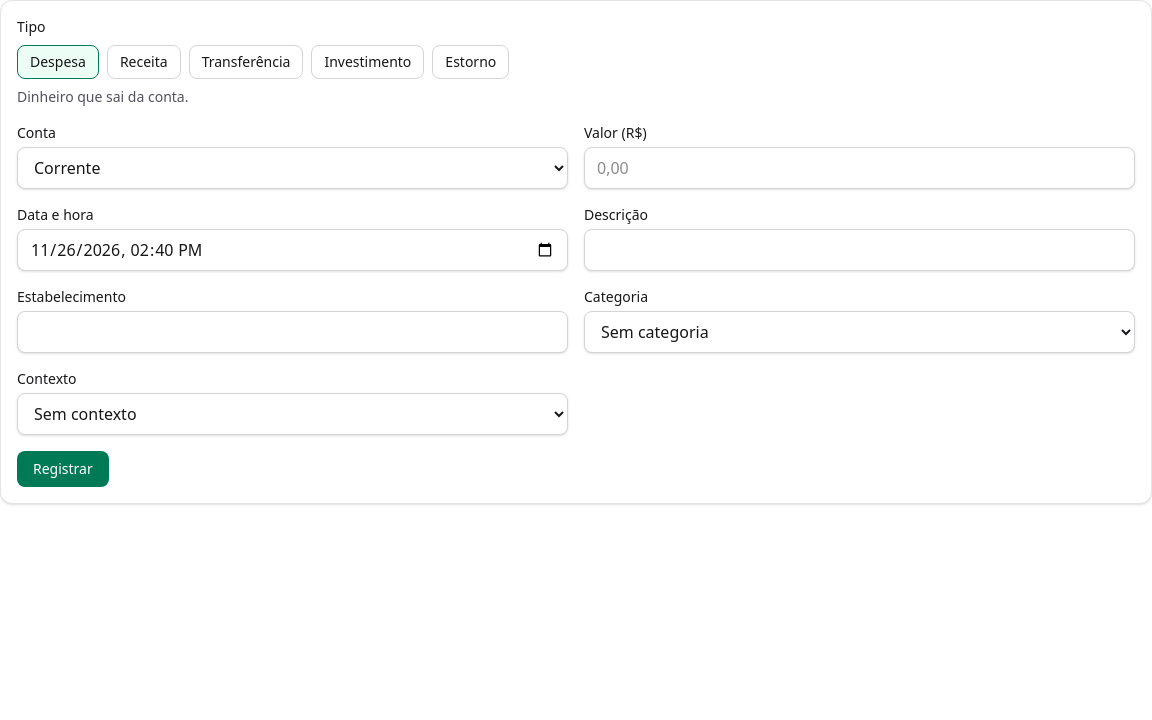
Test: TransactionForm › envia o valor em decimal canônico, a data em ISO e omite os campos vazios
The image size is (1152, 720).
Type "R$ 1.120,50" into the field labelled "Valor (R$)".
click(860, 168); type("R$ 1.120,50")  # box [584,147,1135,189]
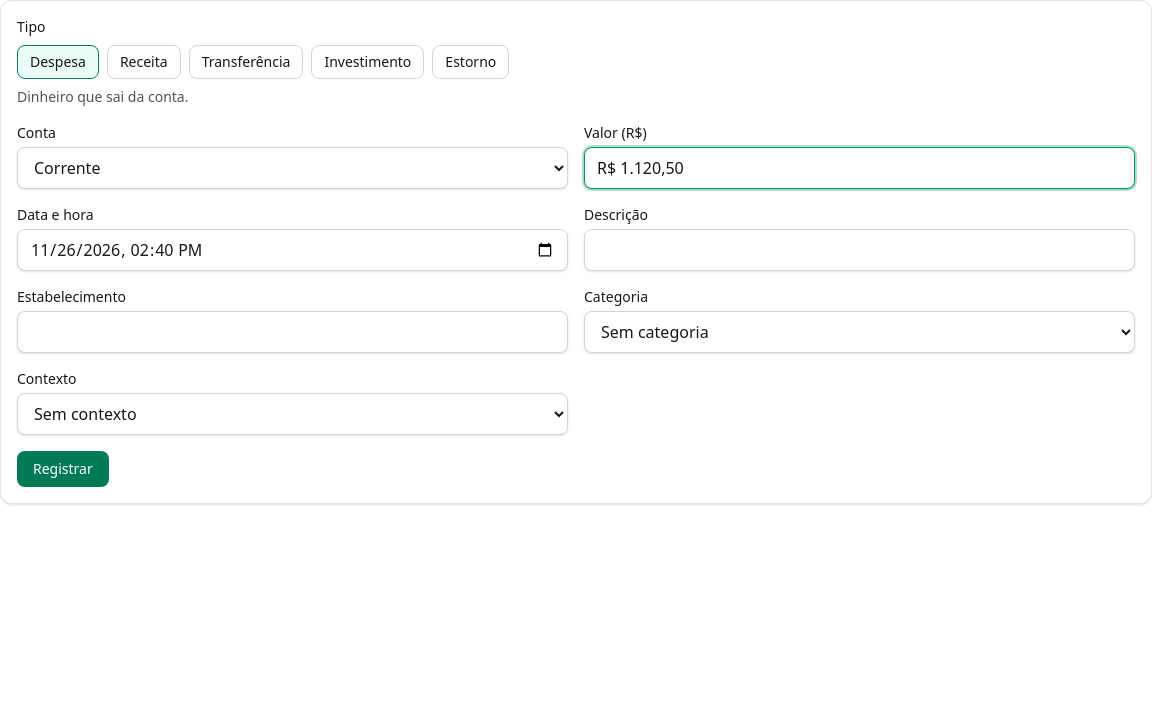
Replace the text in the field labelled "Data e hora" with "2026-05-10T15:30" at coordinates (292, 250), box [17,229,568,271]
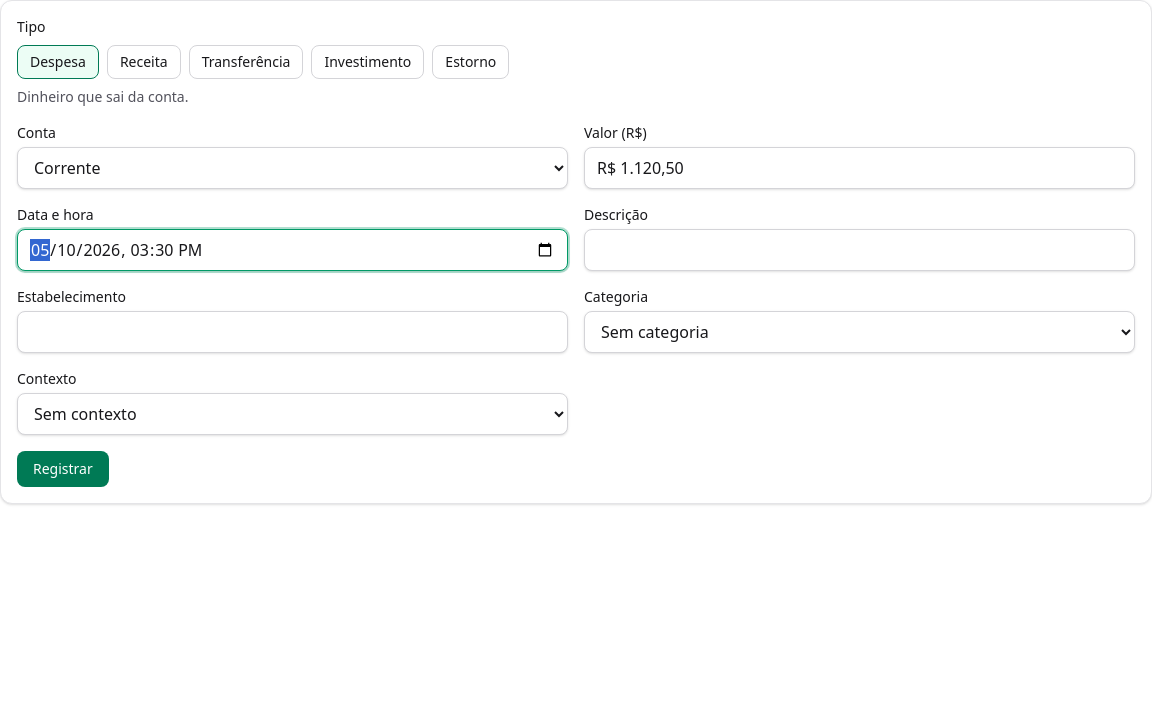
Click the button "Registrar".
click(63, 469)  # box [17,451,109,487]
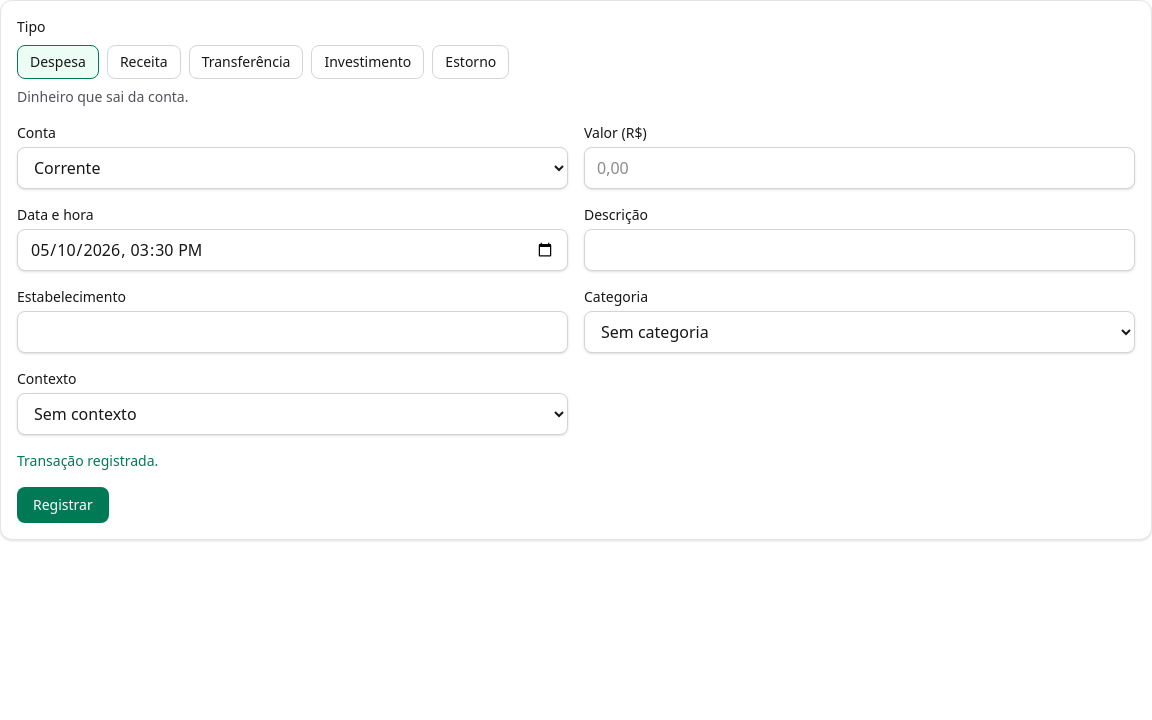
Check: the message reads "Transação registrada.", box [17,451,158,470]
Check: the field labelled "Valor (R$)" is empty, box [584,147,1135,189]
